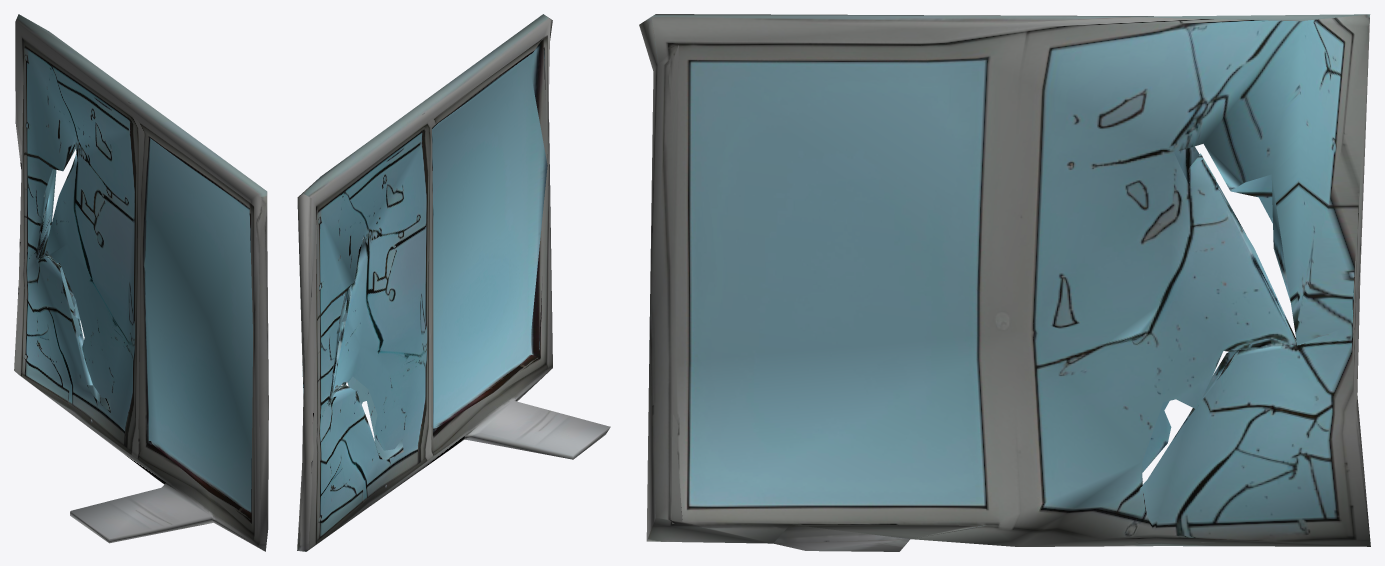
Rendered from BrokenGlass 2.fbx.
3 renders of one model, left to right at view 1: azimuth 30°, elevation 25°; view 2: azimuth 150°, elevation 25°; view 3: azimuth 270°, elevation 25°, orthographic. The views are drawn at different scales.
Visible parts, largest first — view 1: BrokenGlass 2; view 2: BrokenGlass 2; view 3: BrokenGlass 2.
Boxes of the visible parts, box(x1,y1,x2,y2) form: BrokenGlass 2: box(14, 14, 268, 551); BrokenGlass 2: box(297, 14, 610, 551); BrokenGlass 2: box(639, 14, 1370, 551).
Bounding box in the file's own units: 29.33 × 79.56 × 99.46.
1 material, 1 textured.
